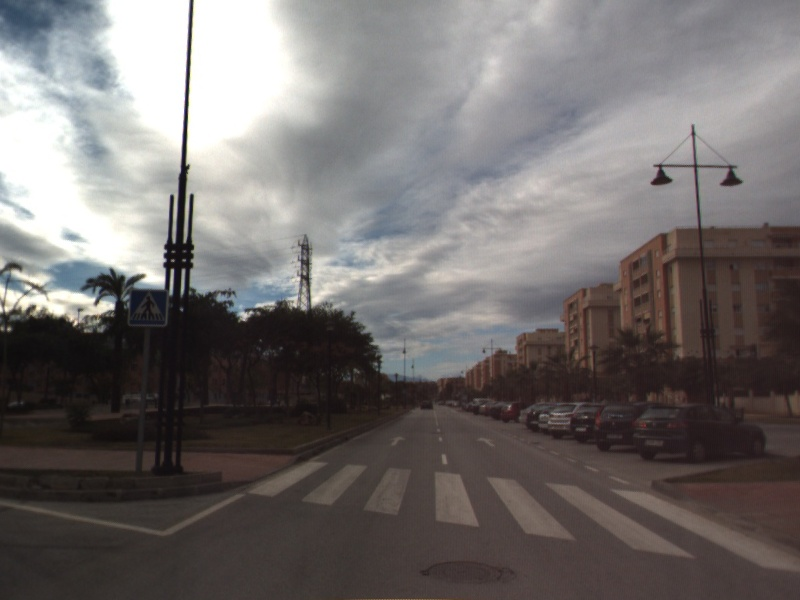STRAIGHT: (475, 435, 497, 448), (388, 434, 408, 448)
